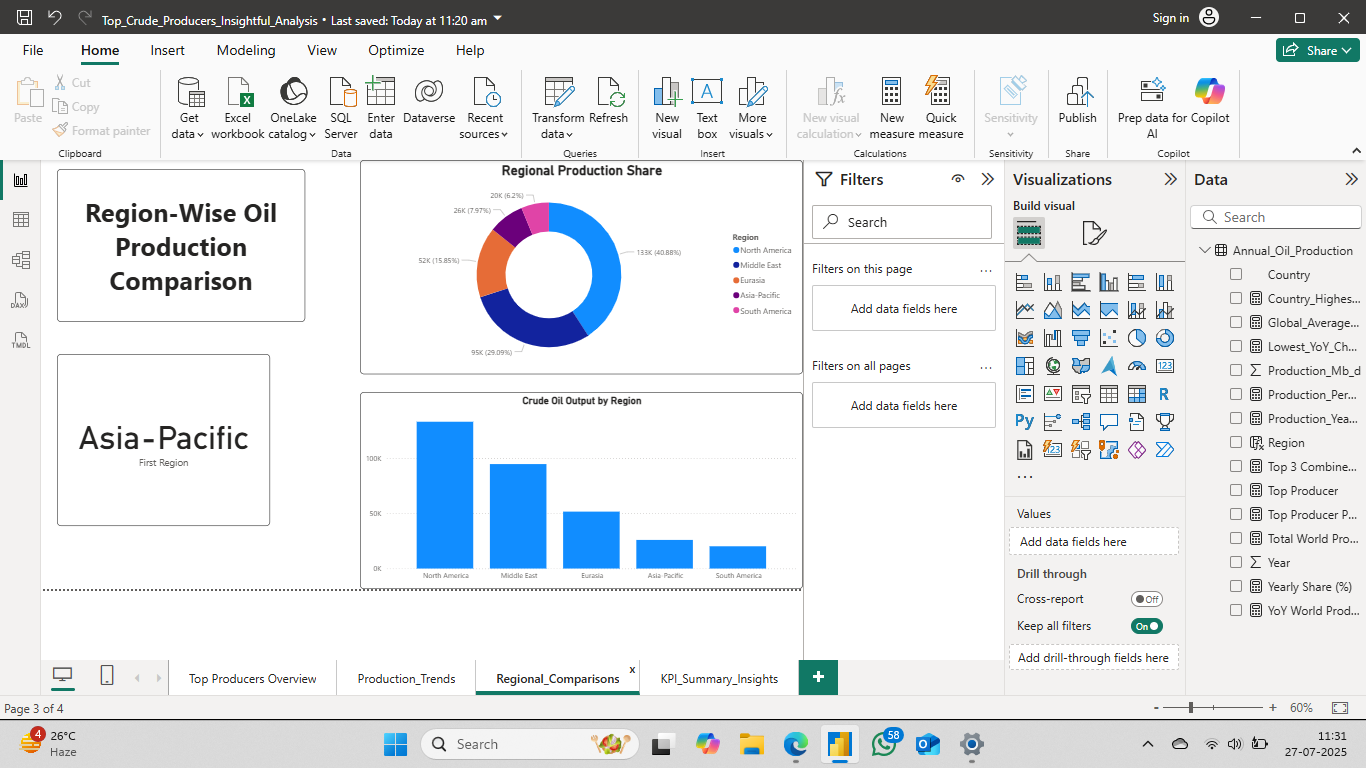

This screenshot's page, from the dashboard's own definition file:
{"tool":"powerbi","page":{"name":"Regional_Comparisons","canvas":[1280,720],"ordinal":2},"visuals":[{"type":"columnChart","title":"Crude Oil Output by Region","fields":{"Y":["Annual_Oil_Production.Production_Mb_d"],"Category":["Annual_Oil_Production.Region"]},"box":[536.2,389.3,743.8,330.6],"z":0},{"type":"donutChart","title":"Regional Production Share","fields":{"Category":["Annual_Oil_Production.Region"],"Y":["Annual_Oil_Production.Production_Mb_d"]},"box":[536.2,0,743.8,359.9],"z":1000},{"type":"card","fields":{"Values":["Annual_Oil_Production.Region"]},"box":[26.9,325.9,357.8,288.9],"z":2000},{"type":"textbox","box":[27.5,14.7,416.9,257.1],"z":3000}]}

Visuals, with their boxes on the page's 1280x720 design canvas (x1, y1, x2, y2). These are canvas units, not pixel positions in the 1366x768 screenshot, which may show the page scaled, cropped or inside an application window:
"Crude Oil Output by Region" columnChart: box=[536, 389, 1280, 720]
"Regional Production Share" donutChart: box=[536, 0, 1280, 360]
card - Annual_Oil_Production.Region: box=[27, 326, 385, 615]
textbox: box=[28, 15, 444, 272]
